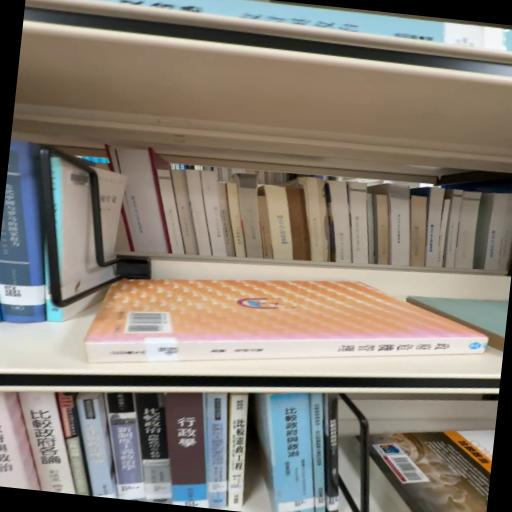flat: (85, 280, 488, 364), (372, 431, 496, 512), (408, 298, 509, 352)
